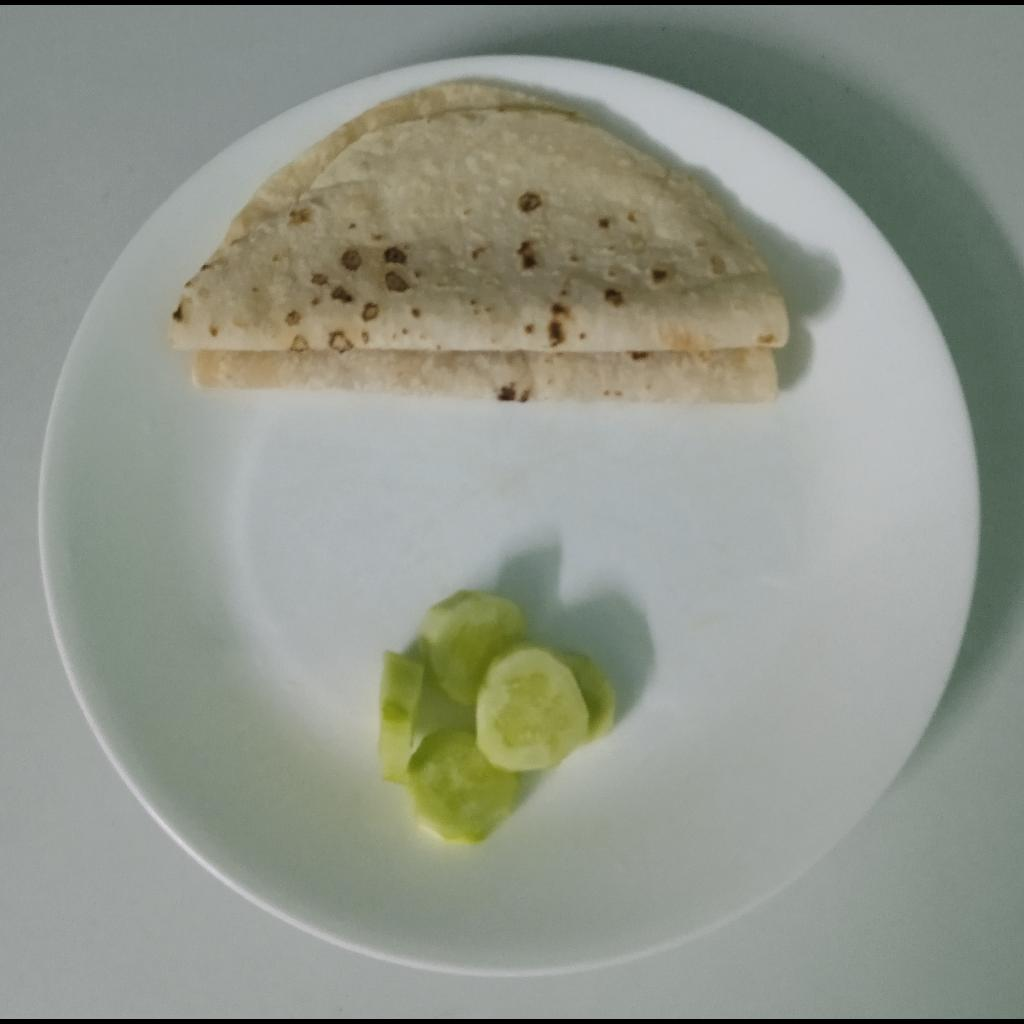cucumber: (374, 591, 620, 843)
ruti: (166, 82, 796, 408)
